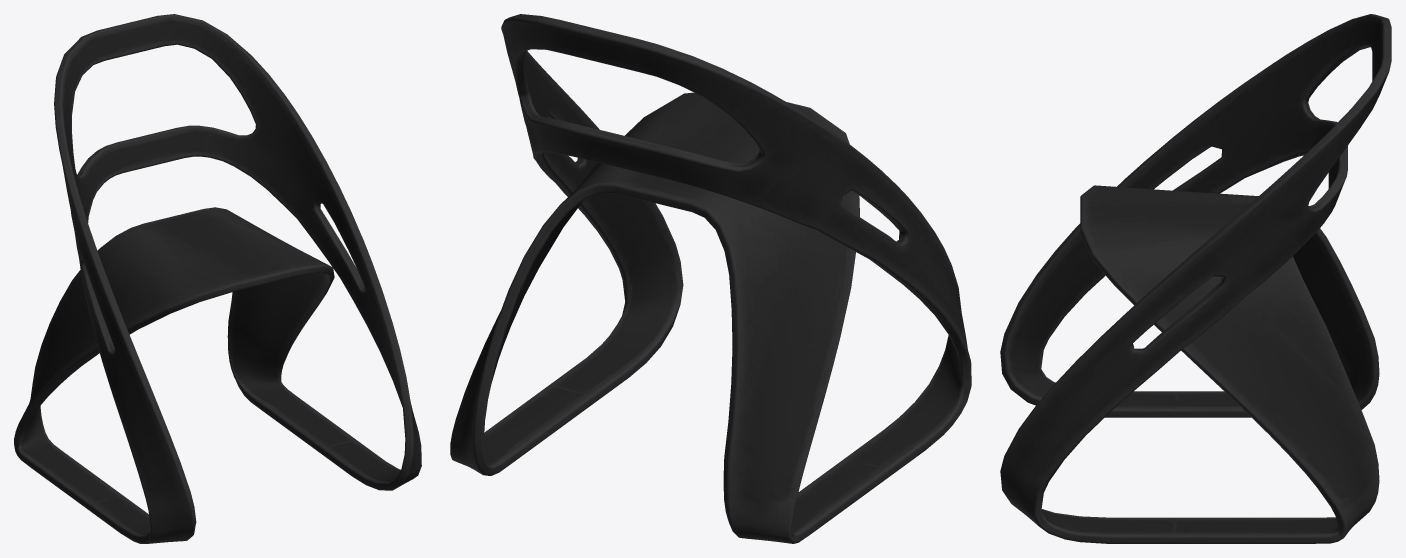
File: 0e9aa213-afd4-4b45-ba88-d3b76bcef9ce.glb
The picture shows the model from 3 angles, left to right: view 1: azimuth 30°, elevation 25°; view 2: azimuth 150°, elevation 25°; view 3: azimuth 270°, elevation 25°; orthographic projection. The views are drawn at different scales.
Visible parts, largest first — view 1: plastic_chair; view 2: plastic_chair; view 3: plastic_chair.
Part boxes in pixels (left/top/right/bottom): plastic_chair: left=14, top=14, right=421, bottom=543; plastic_chair: left=450, top=14, right=971, bottom=543; plastic_chair: left=1000, top=14, right=1391, bottom=543.
Size of the model in its own units: 0.5409 by 0.7338 by 0.6029.
1 material, 1 textured.
